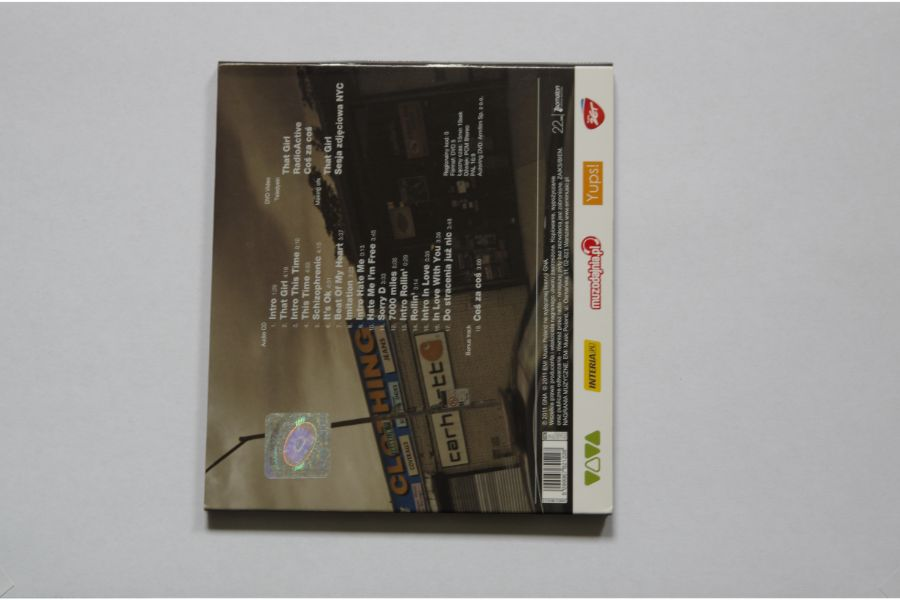album: (203, 55, 615, 519)
